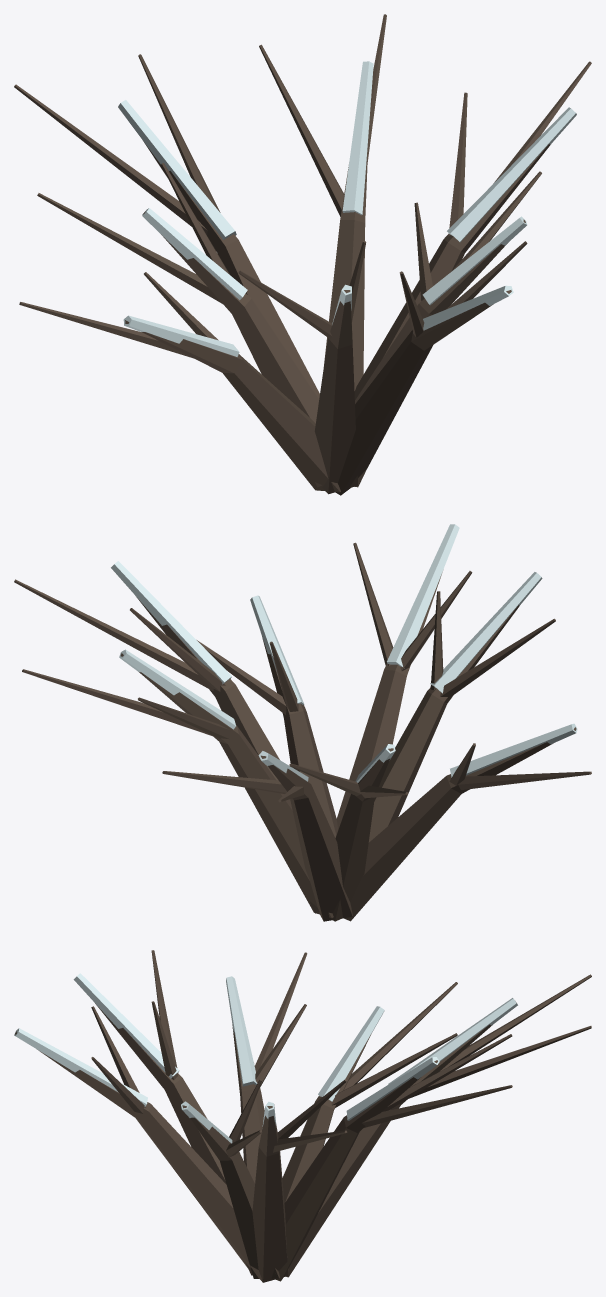
The model's file is PLANT_08_FrostedShrub.glb.
3 renders of one model, top to bottom at view 1: azimuth 30°, elevation 25°; view 2: azimuth 150°, elevation 25°; view 3: azimuth 270°, elevation 25°, orthographic. The views are drawn at different scales.
Parts seen in each view (by area): view 1: PLANT_08_FrostedShrub; view 2: PLANT_08_FrostedShrub; view 3: PLANT_08_FrostedShrub.
Boxes of the visible parts, x1,y1,x2,y2 form: PLANT_08_FrostedShrub: (14,14,591,495); PLANT_08_FrostedShrub: (14,524,591,921); PLANT_08_FrostedShrub: (14,950,591,1282).
Bounding box in the file's own units: 1.53 × 0.7952 × 1.52.
